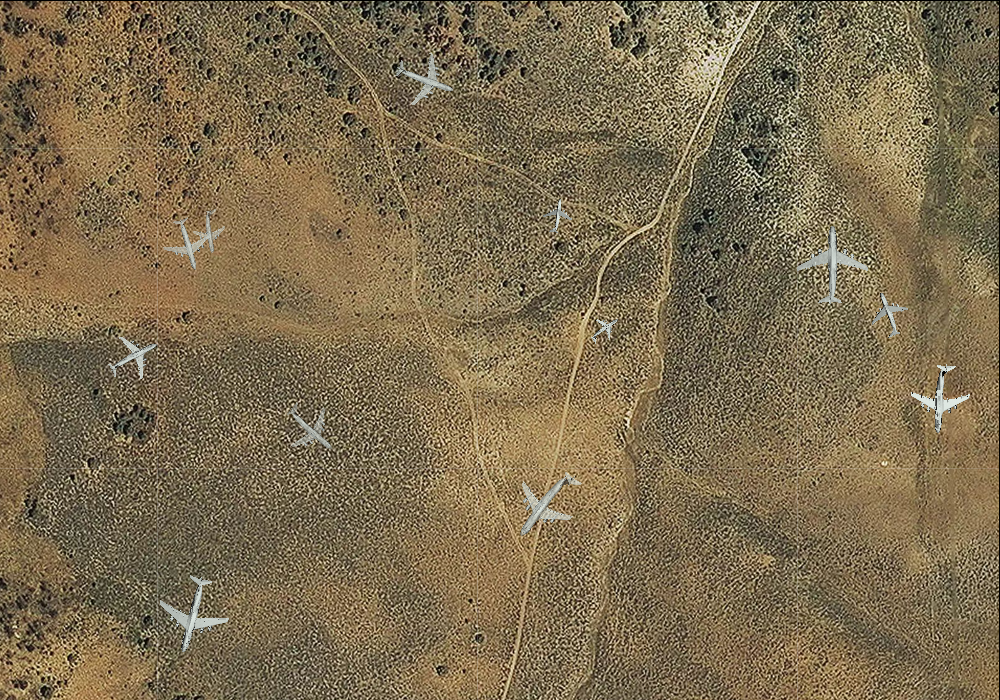plane: (494, 451, 600, 559), (146, 567, 237, 662), (270, 388, 350, 468), (794, 225, 869, 304), (386, 40, 463, 116), (907, 361, 976, 434), (97, 322, 168, 392), (155, 211, 218, 276), (859, 284, 917, 344), (187, 206, 233, 256), (583, 308, 626, 351), (538, 196, 575, 235)
